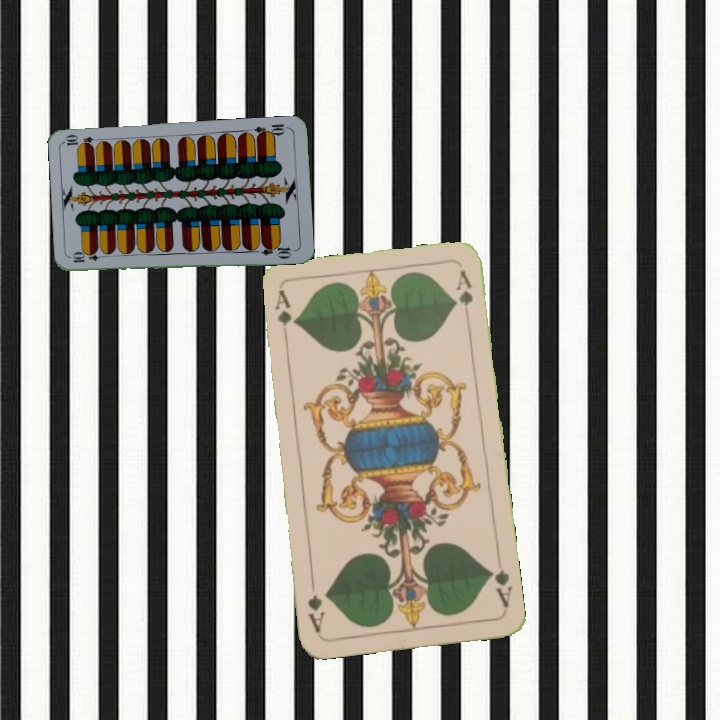E10: (251, 120, 291, 140), (69, 250, 109, 265)
GA: (484, 552, 514, 610), (271, 286, 294, 345)
